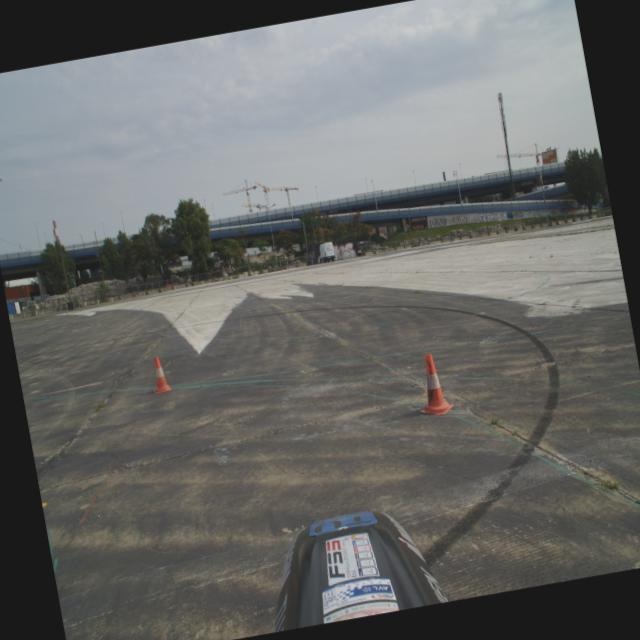orange_cone: (410, 350, 454, 418), (147, 354, 172, 394)
